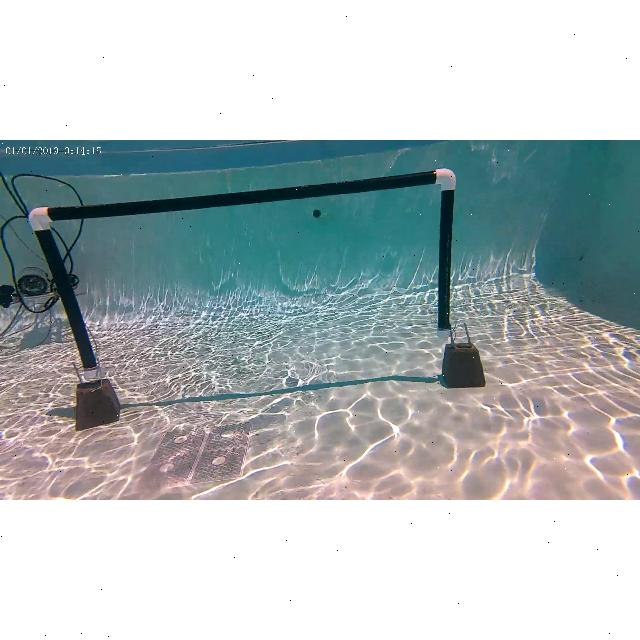prequal gate: (29, 168, 457, 380)
prequal gate leg l: (22, 206, 122, 430)
prequal gate leg r: (426, 166, 490, 390)
